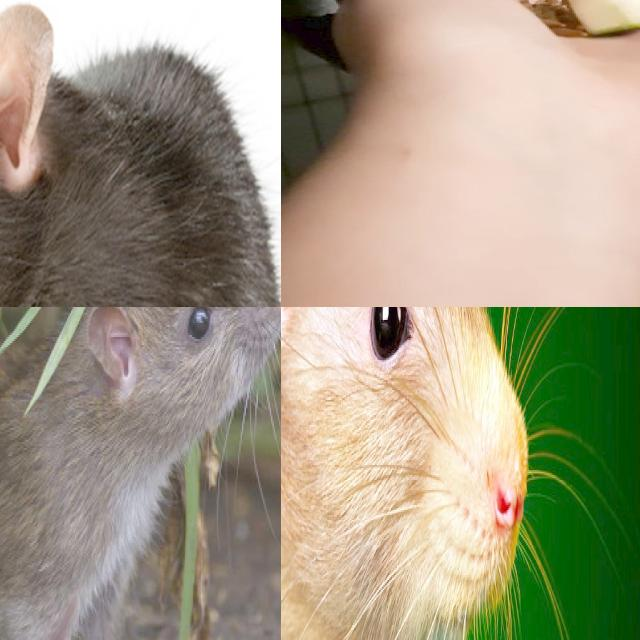rat: (281, 307, 567, 640), (10, 307, 281, 640), (0, 0, 281, 307)
